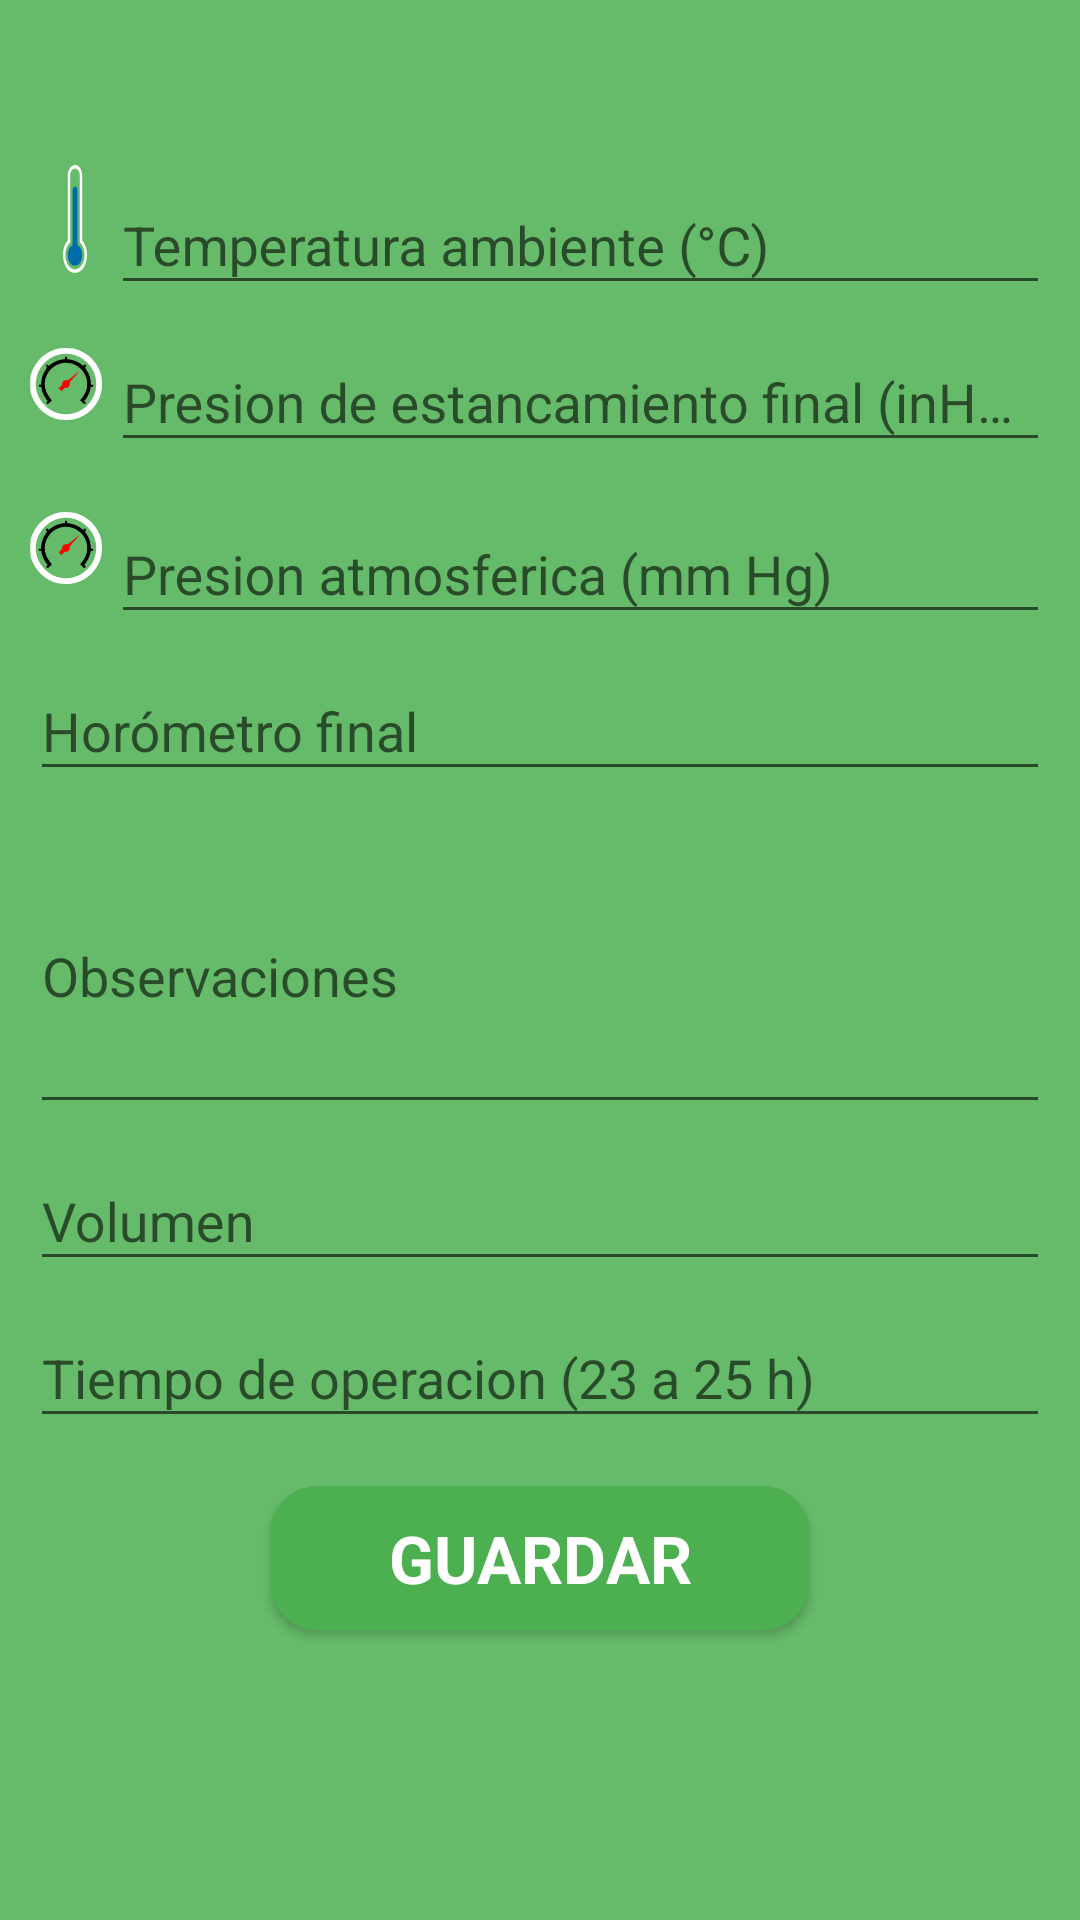

Icon click points for this 1080 x 1920 phone screenshot, format point (x, y):
pressure: point (66, 384), point (66, 548)
